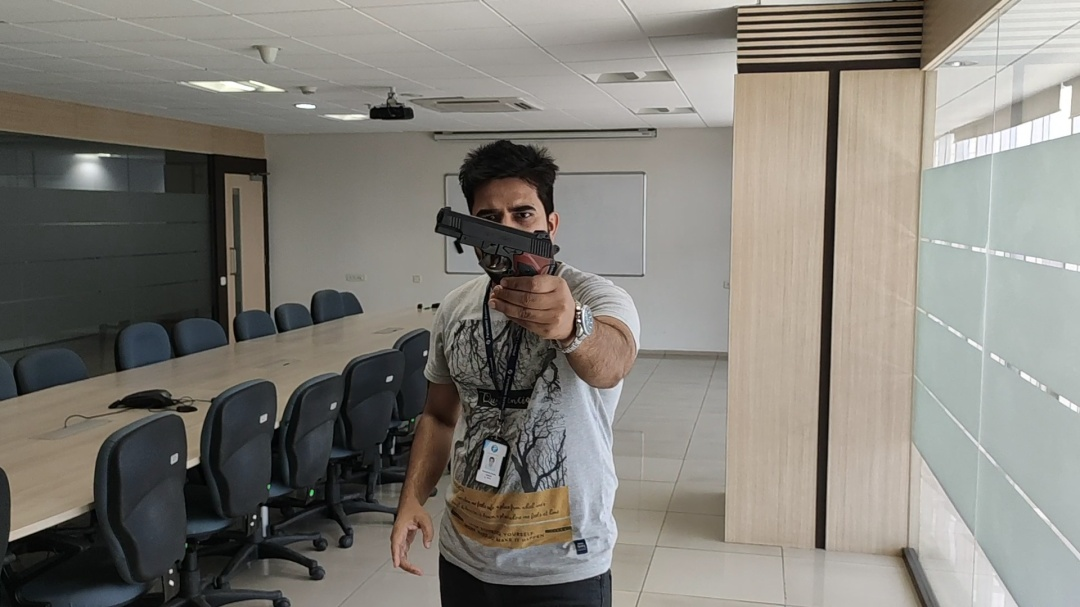gun: (435, 199, 560, 285)
